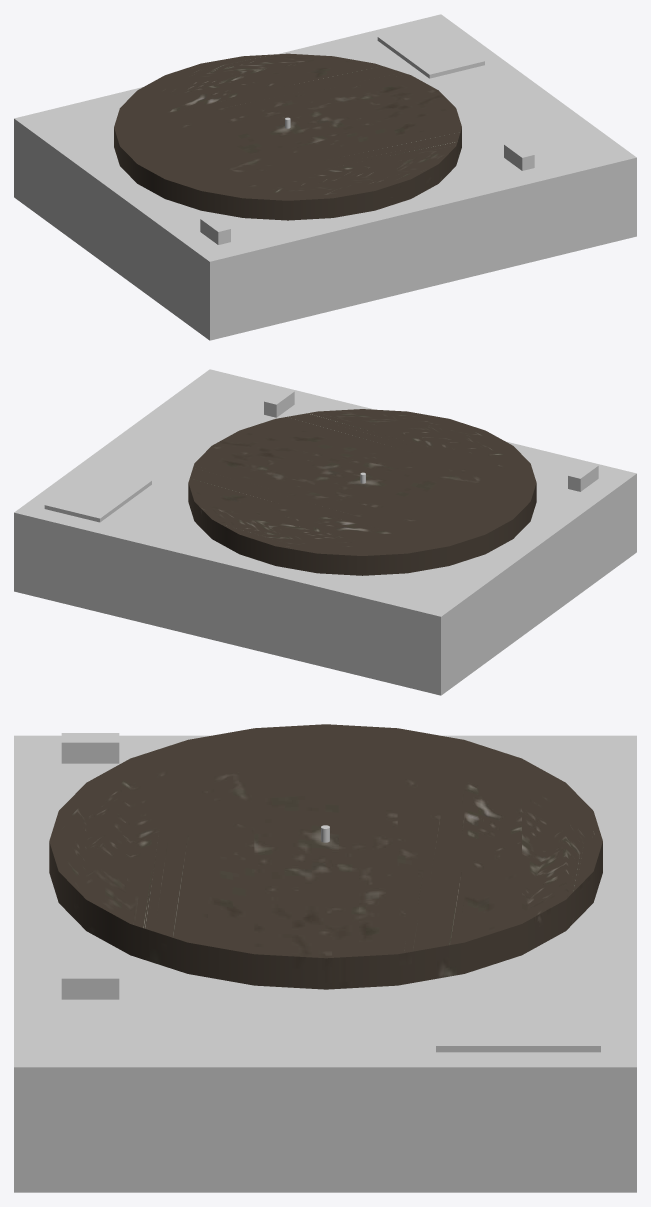
Rendered from turntable.dae.
3 renders of one model, top to bottom at view 1: azimuth 30°, elevation 25°; view 2: azimuth 150°, elevation 25°; view 3: azimuth 270°, elevation 25°, orthographic. The views are drawn at different scales.
Parts seen in each view (by area): view 1: ID4, ID14, SketchUp, ID22 (×2); view 2: ID4, ID14, SketchUp, ID22 (×2); view 3: ID4, ID14, SketchUp, ID22 (×2).
Part boxes in pixels (<box>): ID4: <box>14,14,636,340</box>; ID14: <box>114,53,461,220</box>; SketchUp: <box>377,23,484,78</box>; ID22 (×2): <box>200,141,534,244</box>; ID4: <box>14,369,636,695</box>; ID14: <box>188,409,536,575</box>; SketchUp: <box>44,467,151,522</box>; ID22 (×2): <box>264,388,598,491</box>; ID4: <box>14,735,636,1192</box>; ID14: <box>49,724,602,989</box>; SketchUp: <box>436,1003,600,1052</box>; ID22 (×2): <box>61,733,119,999</box>.
Bounding box in the file's own units: 0.4318 × 0.1036 × 0.3429.
1 material, 1 textured.
